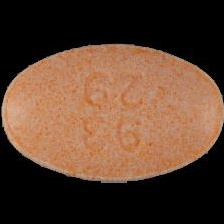53808-0648: (0, 0, 224, 224)
